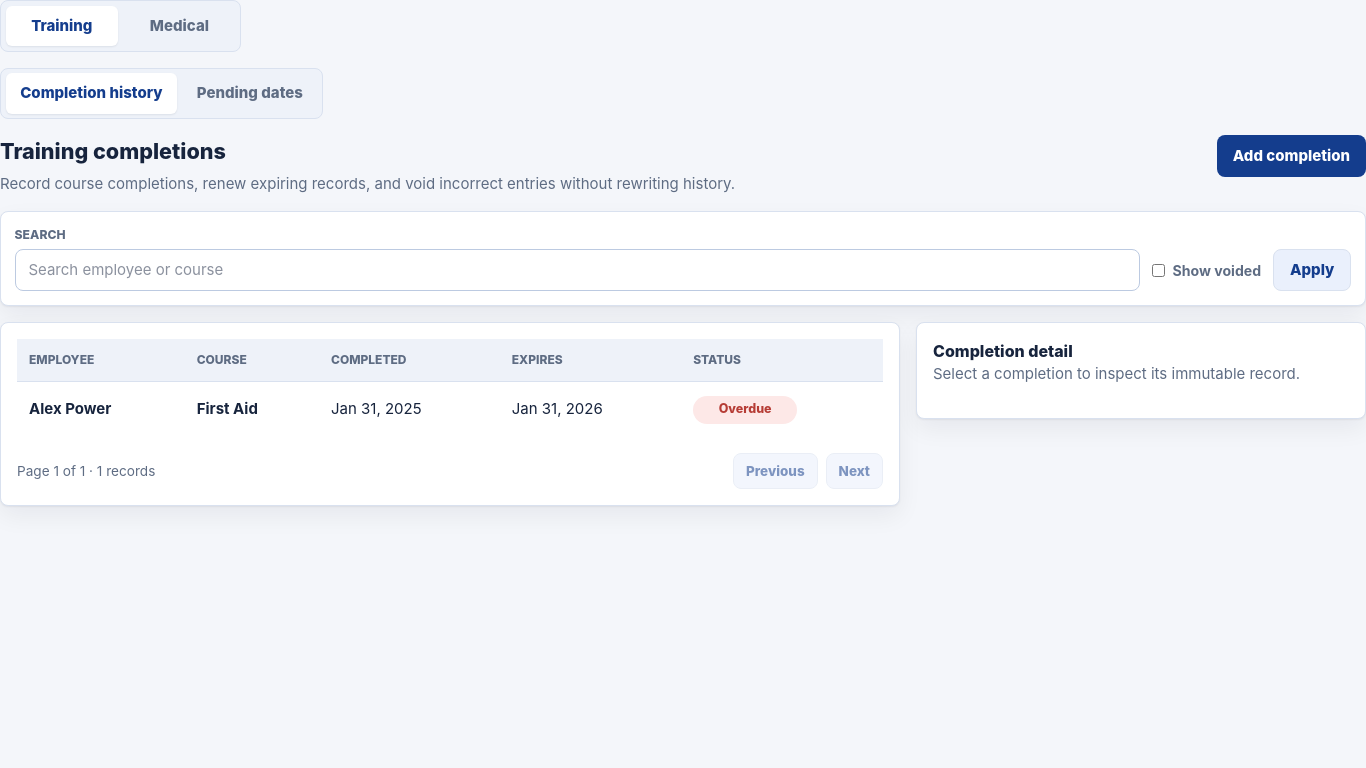
Test case: ManageCompletions › opens renewals with a blank completion date
Click the row "Alex Power First Aid Jan 31, 2025 Jan 31, 2026 Overdue" at [70, 409], box [17,382,883,437]
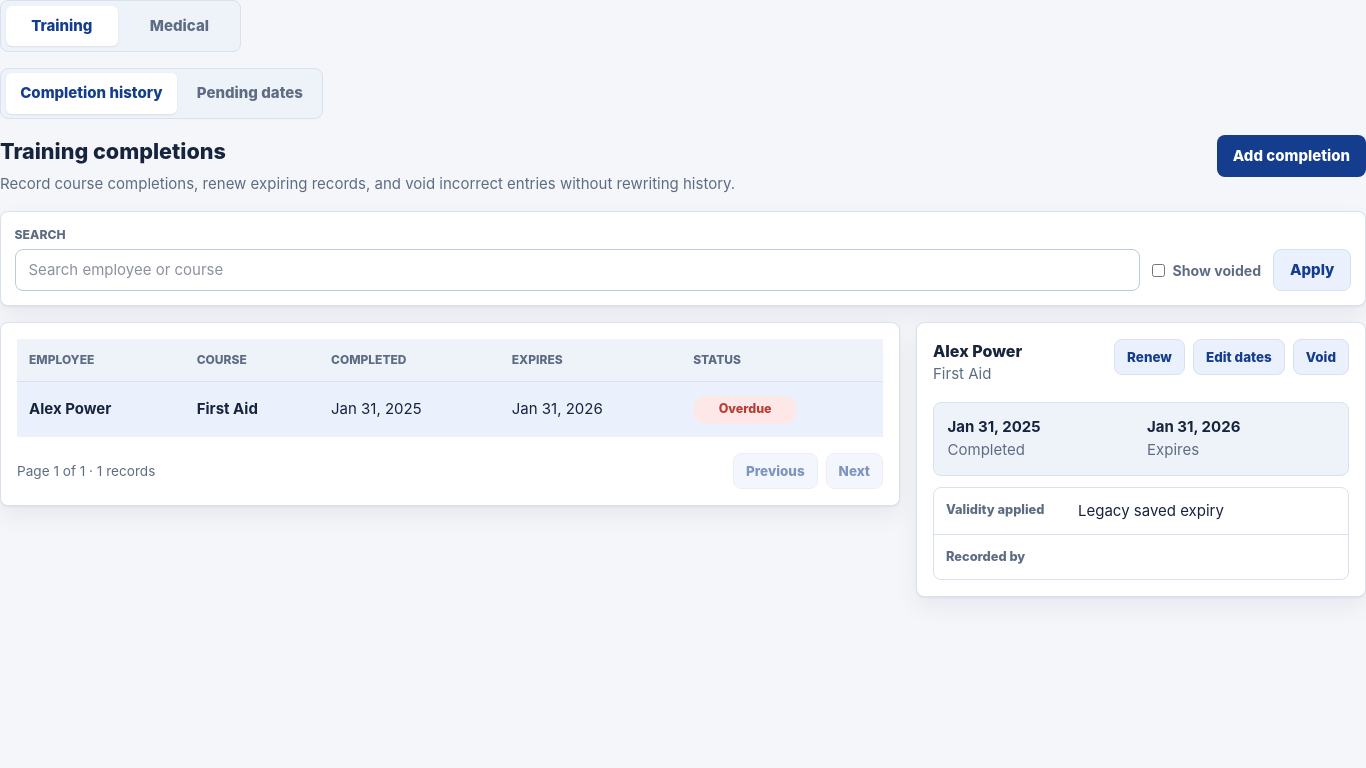
Click the button "Renew" at [1150, 357], box [1114,339,1185,375]
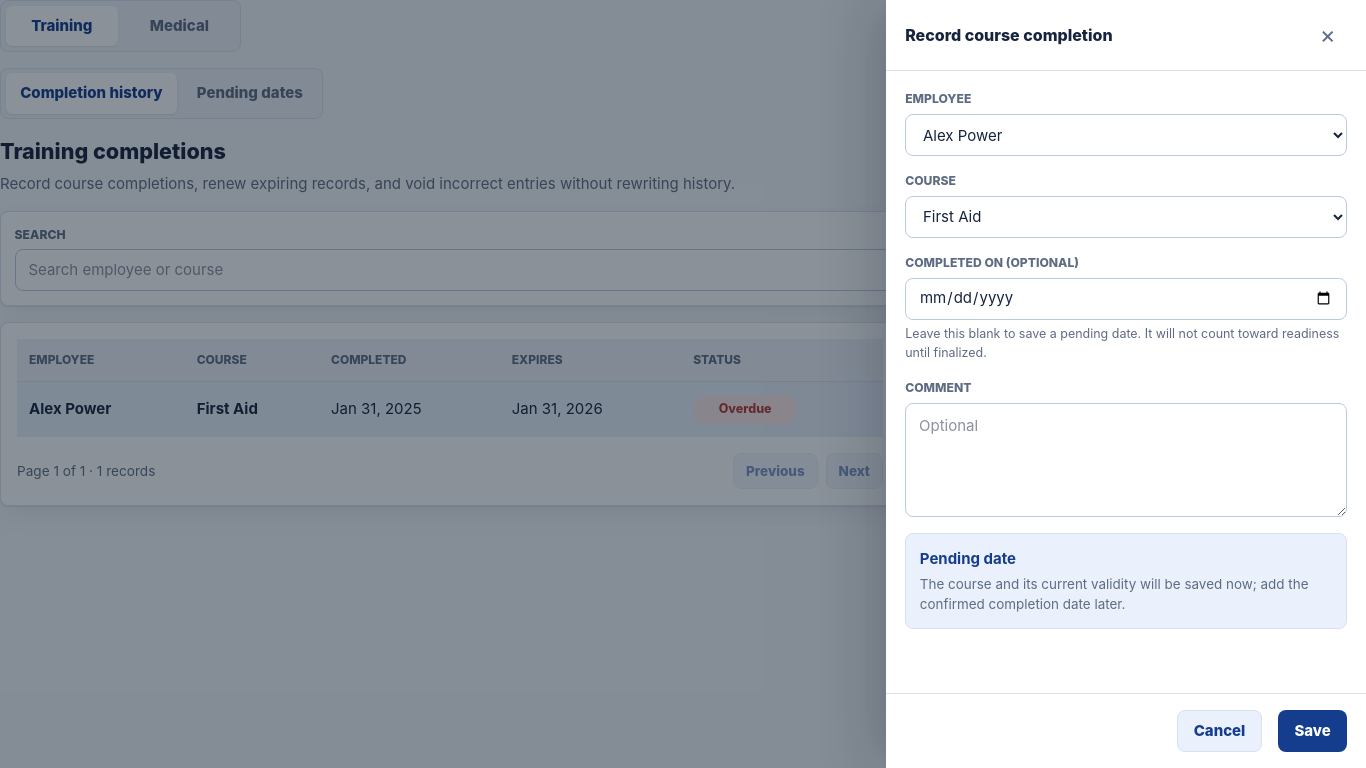
Now the dropdown labelled "Employee" shows "Alex Power", box [905,114,1347,156]
Now the dropdown labelled "Course" shows "First Aid", box [905,196,1347,238]
Now the date field is empty, box [905,278,1347,320]
